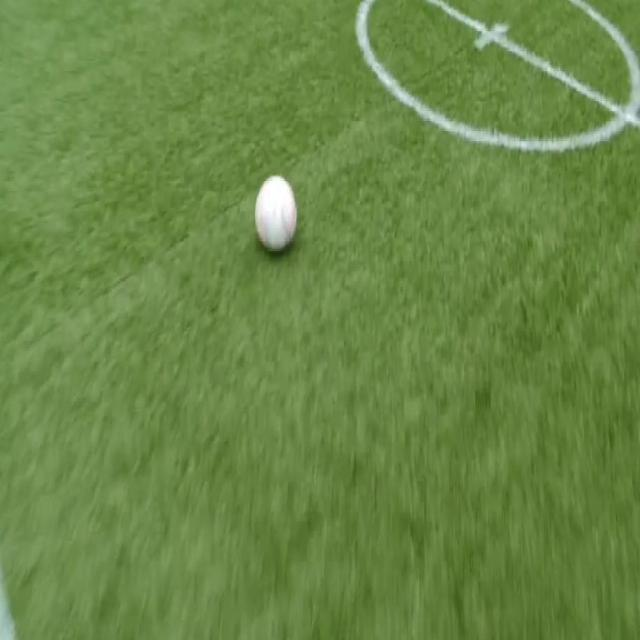ball: (255, 176, 297, 252)
